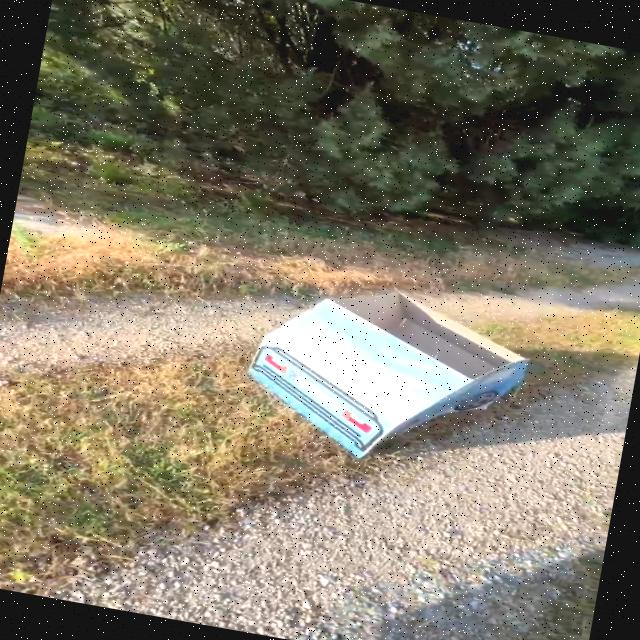blue_car: (186, 248, 579, 508)
